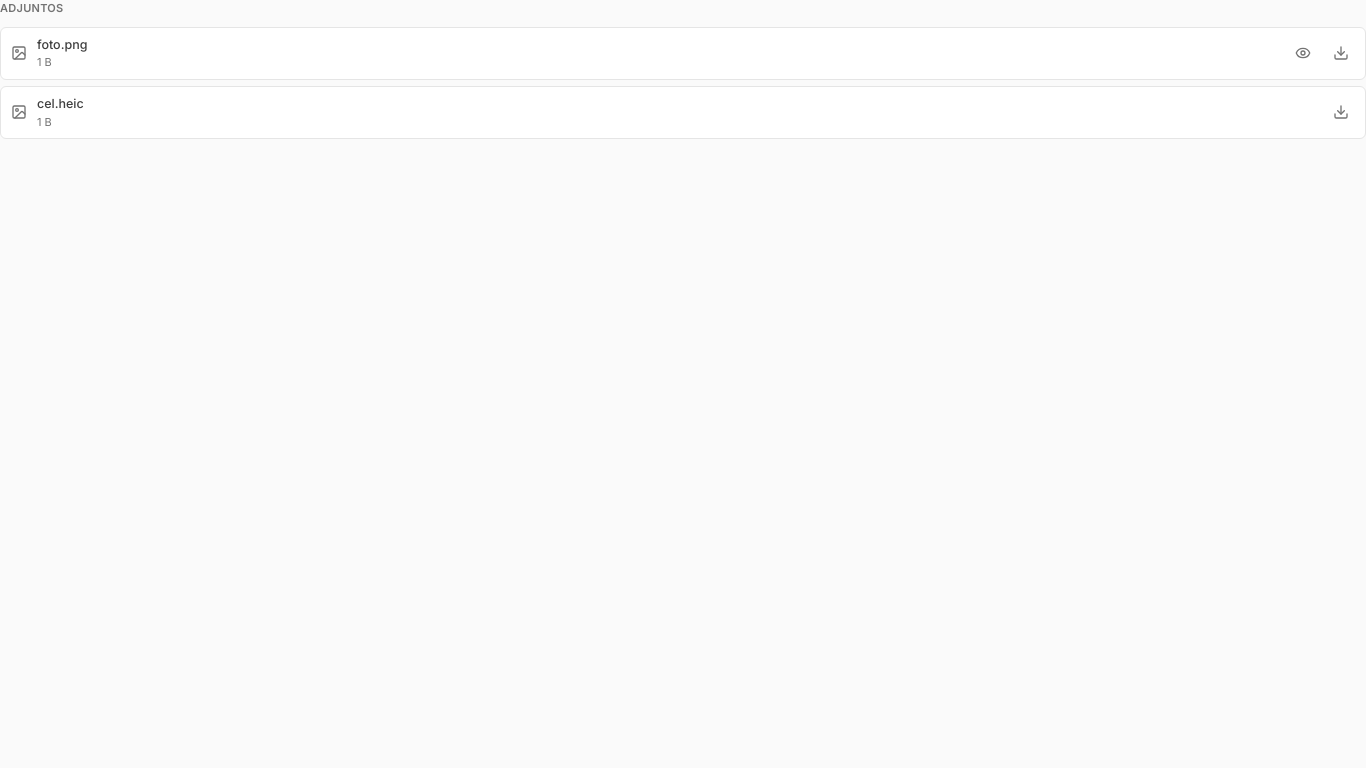
it: AttachmentGallery › muestra una imagen en la vista previa y no ofrece ver formatos no soportados
Step 1. Click the button named "Ver foto.png" → (1303, 53), box x1=1289 y1=39 x2=1317 y2=67
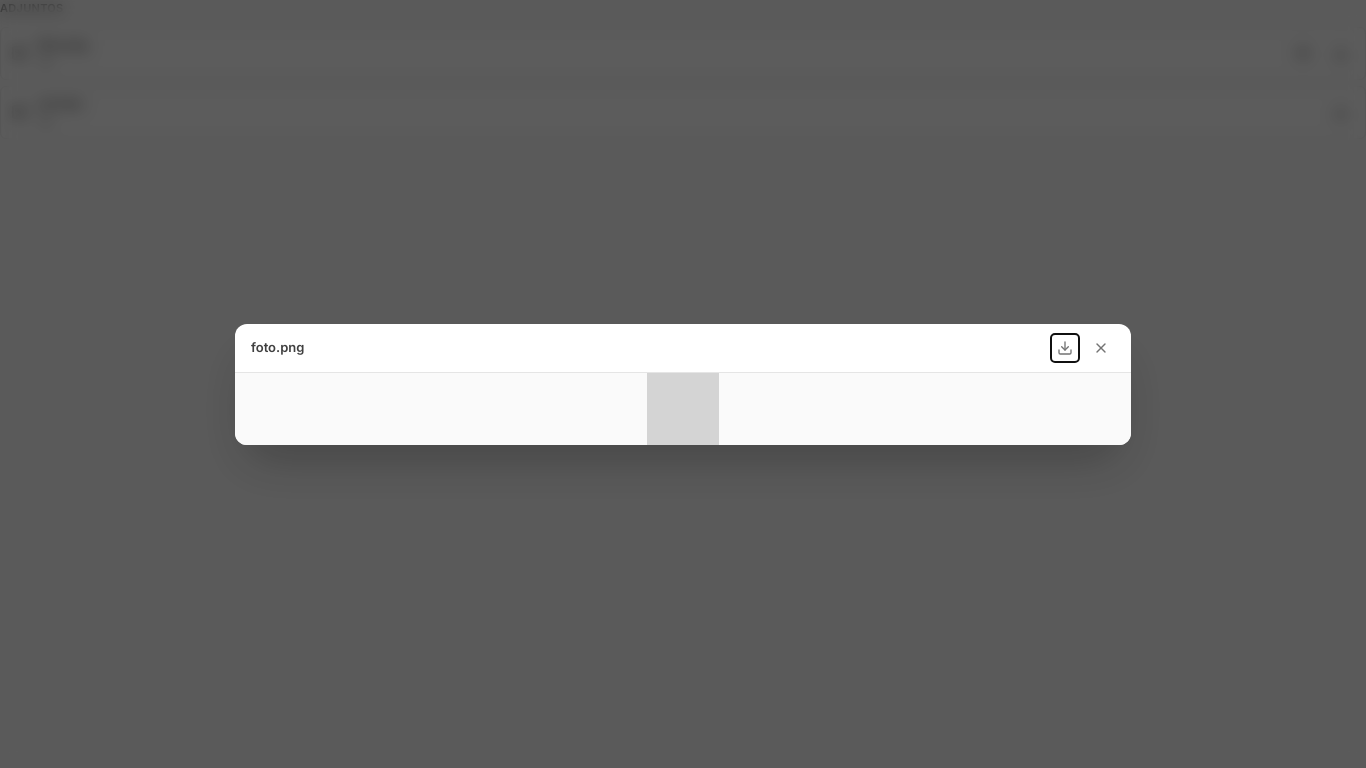
Step 2. Click the button named "Cerrar vista previa" → (1101, 348), box x1=1087 y1=334 x2=1115 y2=362
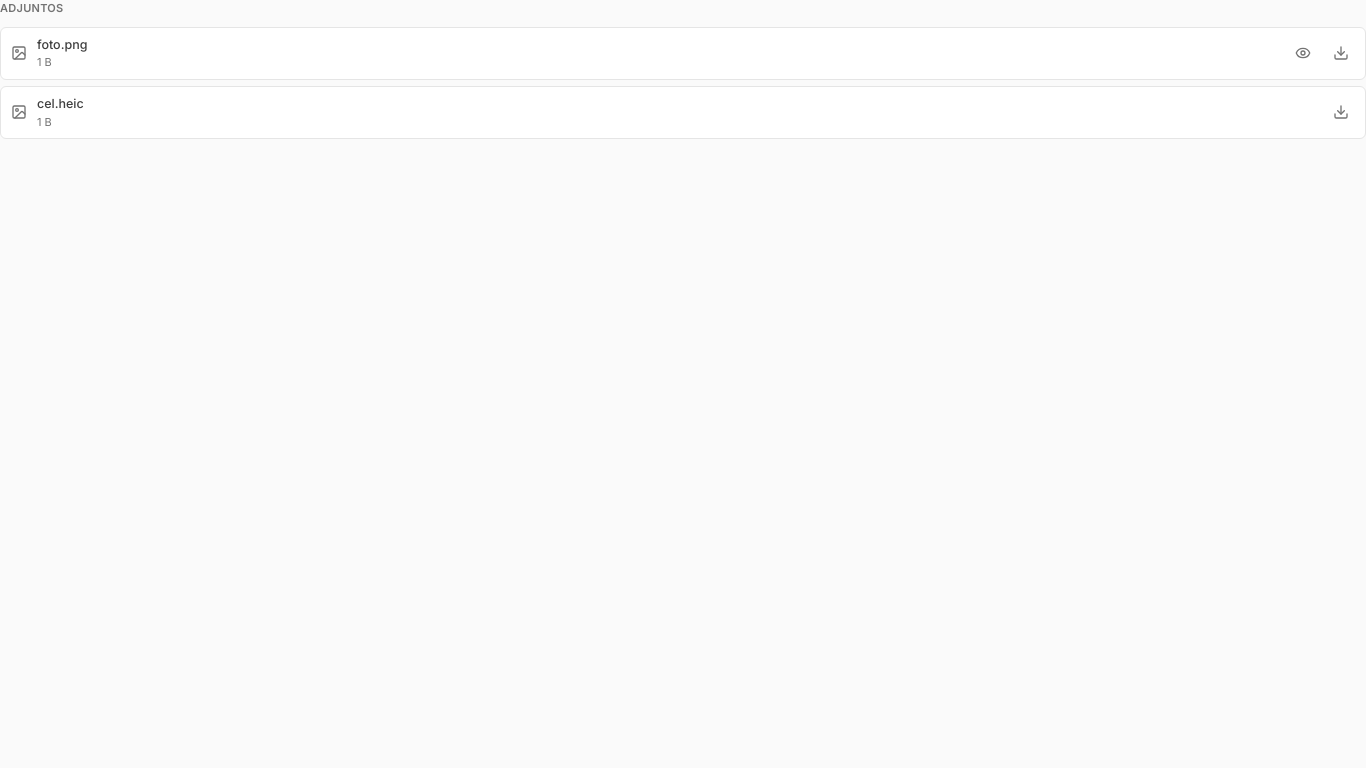
Result: the dialog is gone
